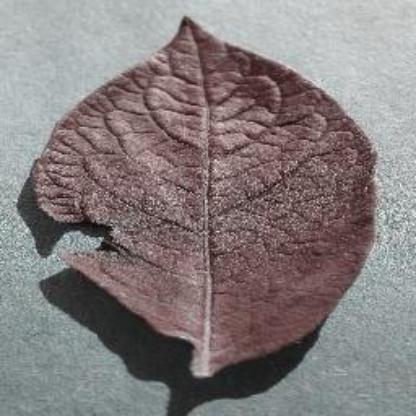Healthy-plant: (23, 15, 395, 384)
